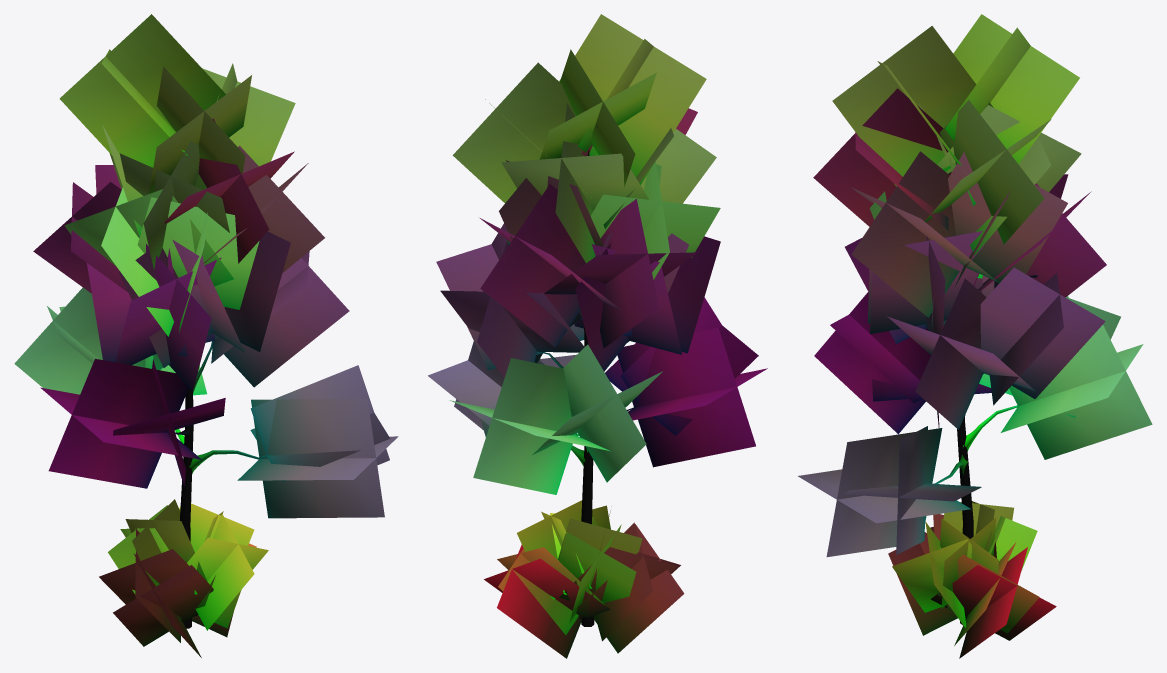
File: URP_P12_Tree_2_LOD_3.fbx
3 views of the same model, side by side, from view 1: azimuth 30°, elevation 25°; view 2: azimuth 150°, elevation 25°; view 3: azimuth 270°, elevation 25° (orthographic).
Parts seen in each view (by area): view 1: Tree_2_LOD_3; view 2: Tree_2_LOD_3; view 3: Tree_2_LOD_3.
Part boxes in pixels (x1=…): Tree_2_LOD_3: x1=14, y1=14, x2=398, y2=657; Tree_2_LOD_3: x1=428, y1=14, x2=767, y2=658; Tree_2_LOD_3: x1=798, y1=14, x2=1152, y2=658.
Size of the model in its own units: 199 by 362 by 191.
